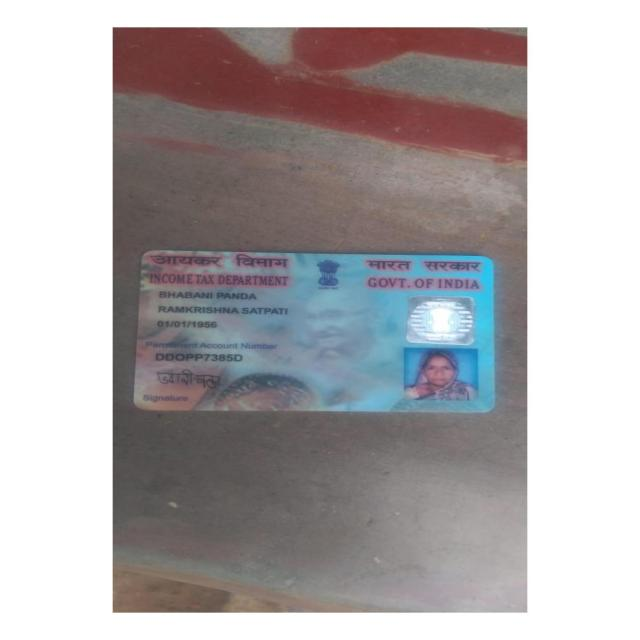pan_card: (130, 252, 492, 414)
